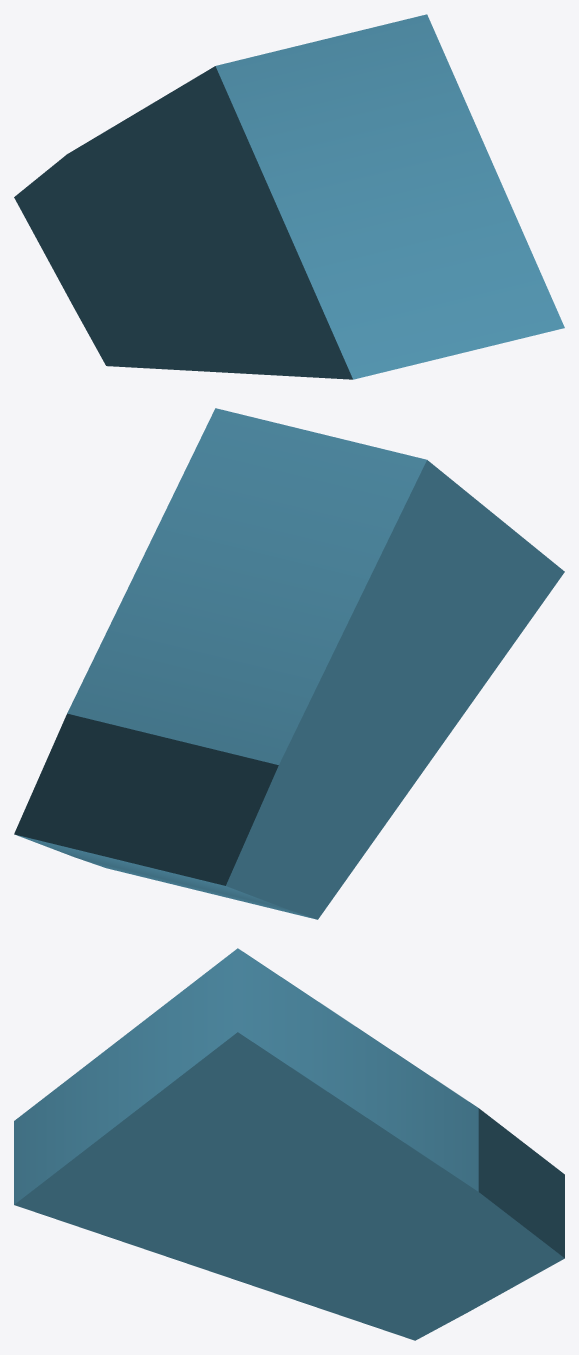
File: NexusC_Trigger_13.fbx
3 views of the same model, one above another, from view 1: azimuth 30°, elevation 25°; view 2: azimuth 150°, elevation 25°; view 3: azimuth 270°, elevation 25° (orthographic). The views are drawn at different scales.
Parts seen in each view (by area): view 1: polySurface72; view 2: polySurface72; view 3: polySurface72.
Part boxes in pixels (left/top/right/bottom): polySurface72: left=14, top=14, right=564, bottom=379; polySurface72: left=14, top=408, right=564, bottom=919; polySurface72: left=14, top=948, right=564, bottom=1340.
Size of the model in its own units: 12.85 by 22.05 by 35.67.
